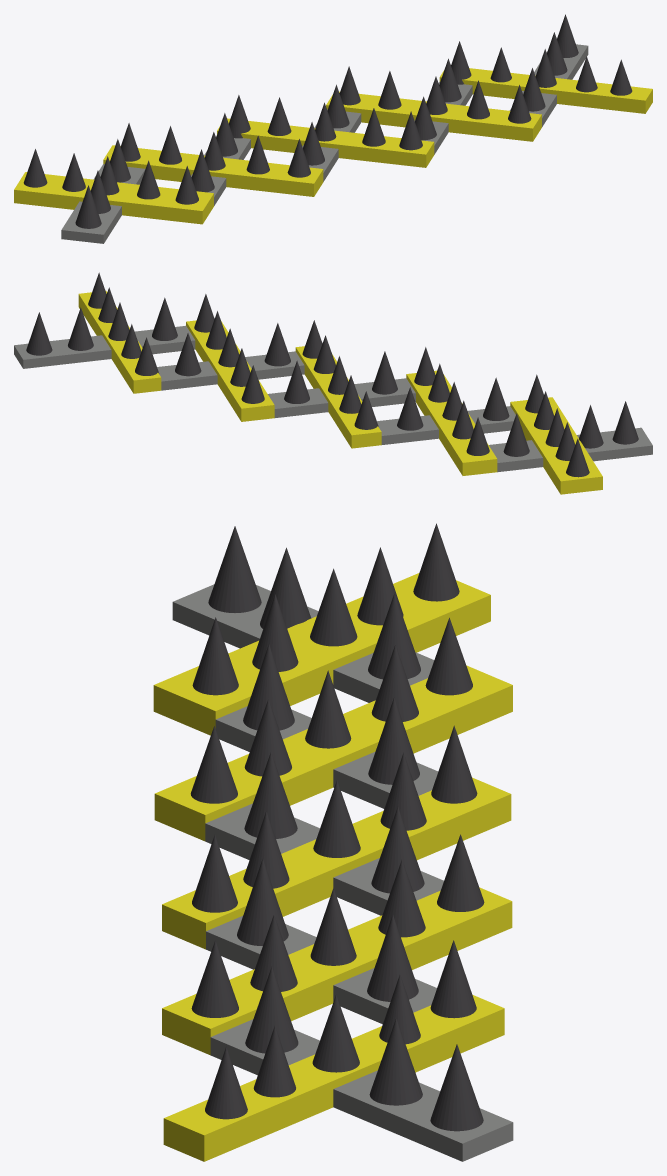
File: tuzakyavas.fbx
3 views of the same model, one above another, from view 1: azimuth 30°, elevation 25°; view 2: azimuth 150°, elevation 25°; view 3: azimuth 270°, elevation 25° (orthographic). The views are drawn at different scales.
Visible parts, largest first — view 1: Cube; view 2: Cube; view 3: Cube.
Part boxes in pixels (<box>): Cube: <box>14,14,652,243</box>; Cube: <box>14,272,652,494</box>; Cube: <box>153,523,513,1161</box>.
Size of the model in its own units: 3071 by 240 by 822.
